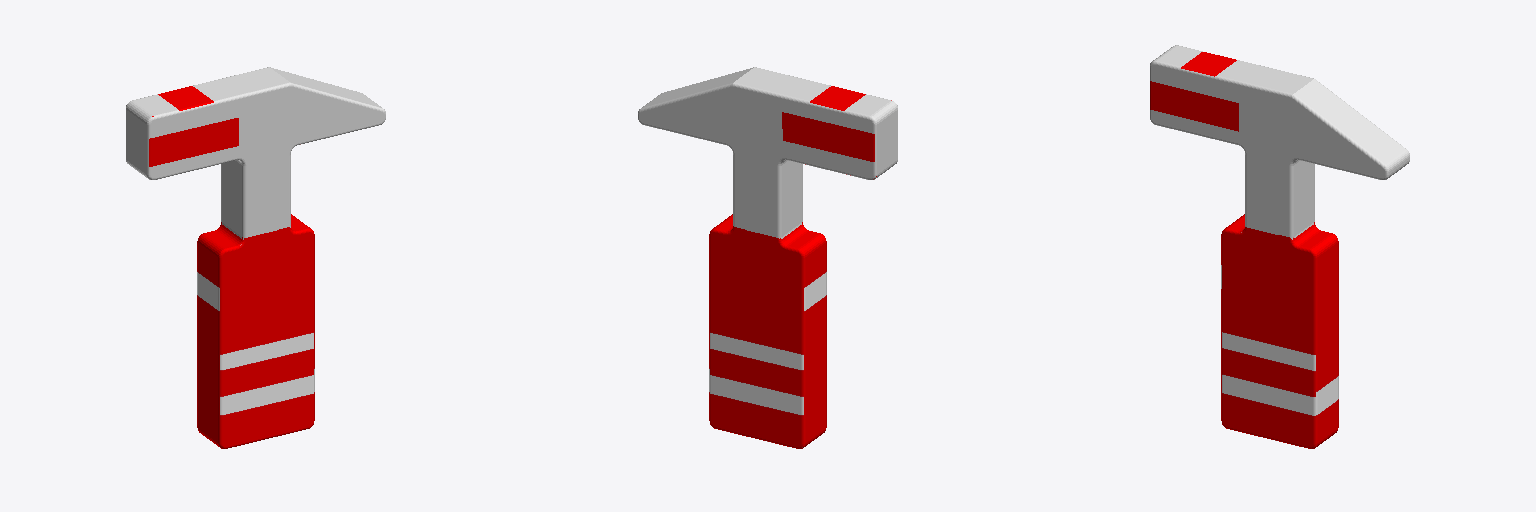
The picture shows the model from 3 angles: view 1: azimuth 30°, elevation 25°; view 2: azimuth 150°, elevation 25°; view 3: azimuth 330°, elevation 25°; orthographic projection.
Visible parts, largest first — view 1: white_hammer2; view 2: white_hammer2; view 3: white_hammer2.
Part boxes in pixels (left/top/right/bottom): white_hammer2: left=126, top=67, right=385, bottom=448; white_hammer2: left=638, top=67, right=897, bottom=448; white_hammer2: left=1150, top=45, right=1409, bottom=448.
Bounding box in the file's own units: 175 × 245 × 30.
Materials: 1 (1 with a texture image).